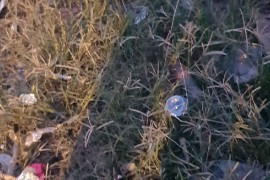trash: (1, 86, 53, 180), (152, 56, 201, 119), (223, 34, 261, 88)
